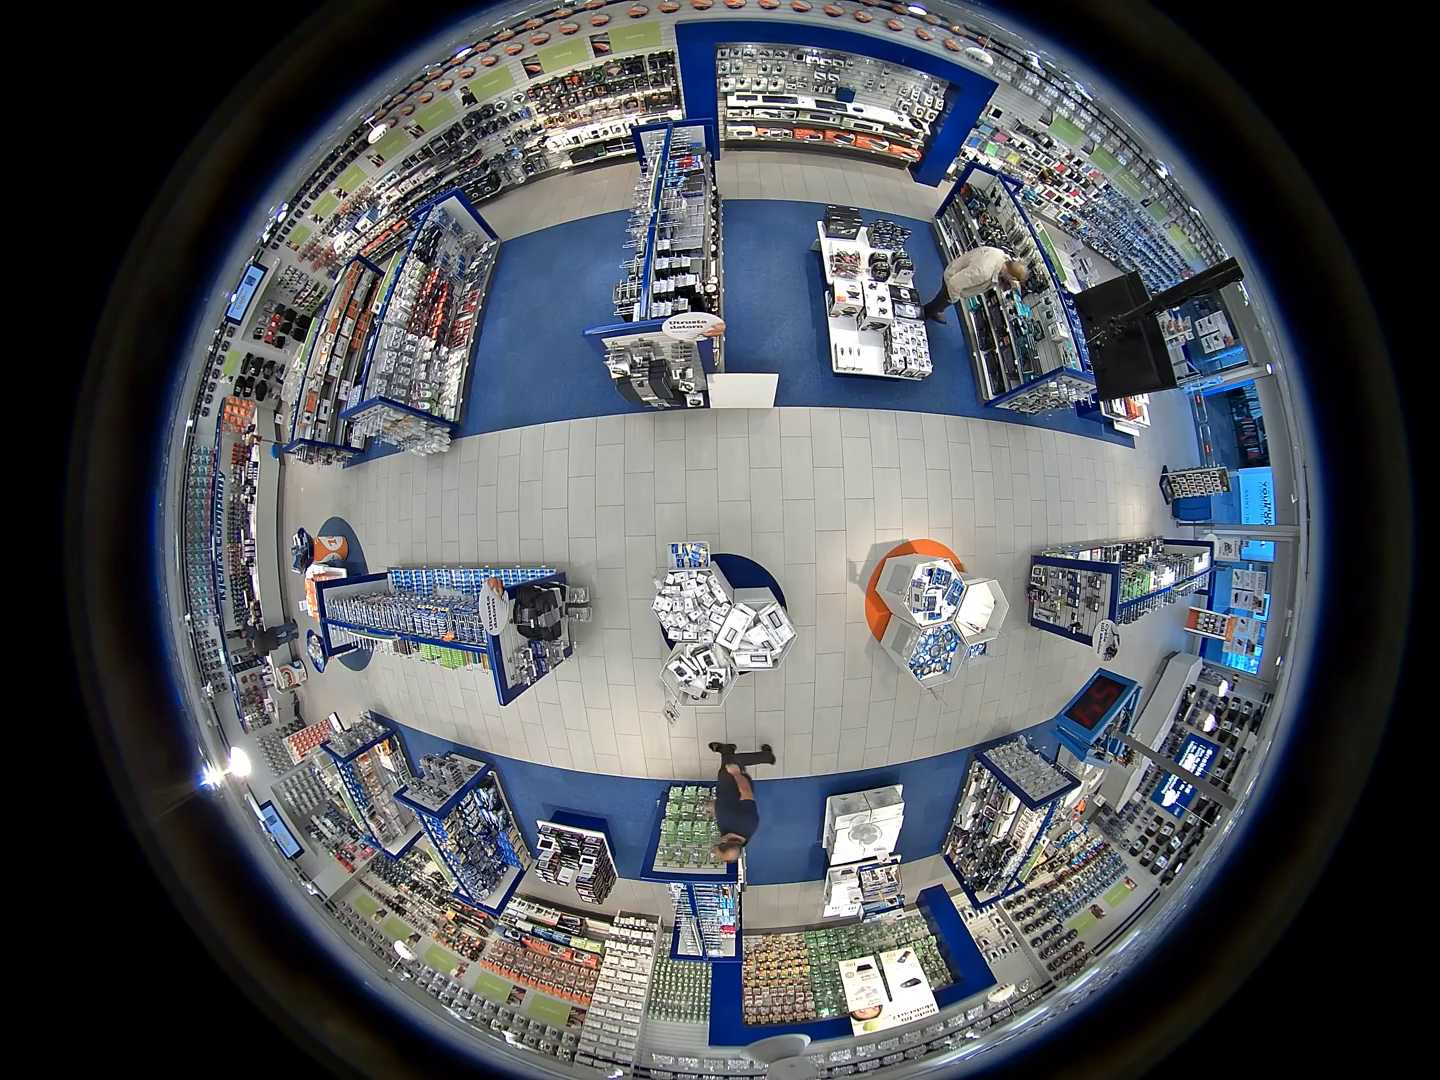person: (703, 741, 776, 862), (919, 245, 1029, 325), (246, 617, 300, 658), (239, 620, 258, 639)
